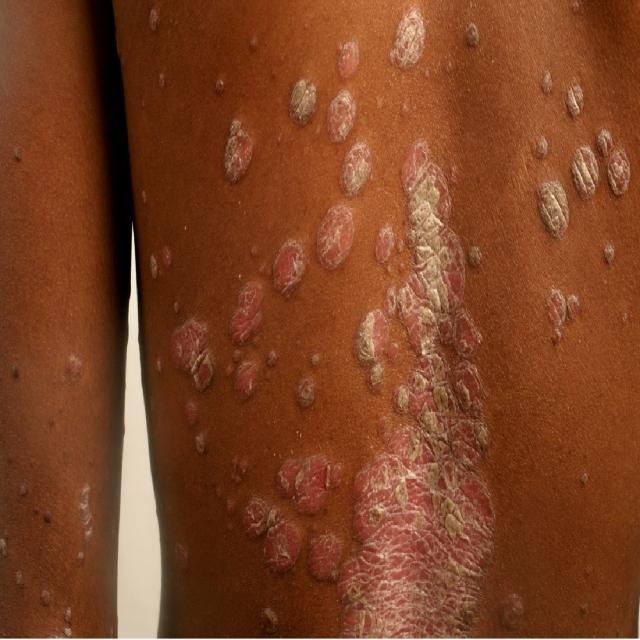Ringworm: (518, 167, 587, 252), (190, 115, 268, 190), (265, 447, 345, 515), (158, 305, 218, 385), (258, 502, 310, 588), (377, 0, 435, 77), (308, 190, 355, 277), (217, 275, 270, 347), (302, 523, 352, 597), (362, 205, 408, 283), (262, 235, 310, 305), (538, 278, 583, 347), (220, 345, 267, 410), (322, 80, 362, 155), (567, 137, 608, 208), (328, 140, 378, 197), (607, 125, 640, 210), (275, 73, 322, 130), (332, 33, 367, 90), (232, 493, 272, 540)
